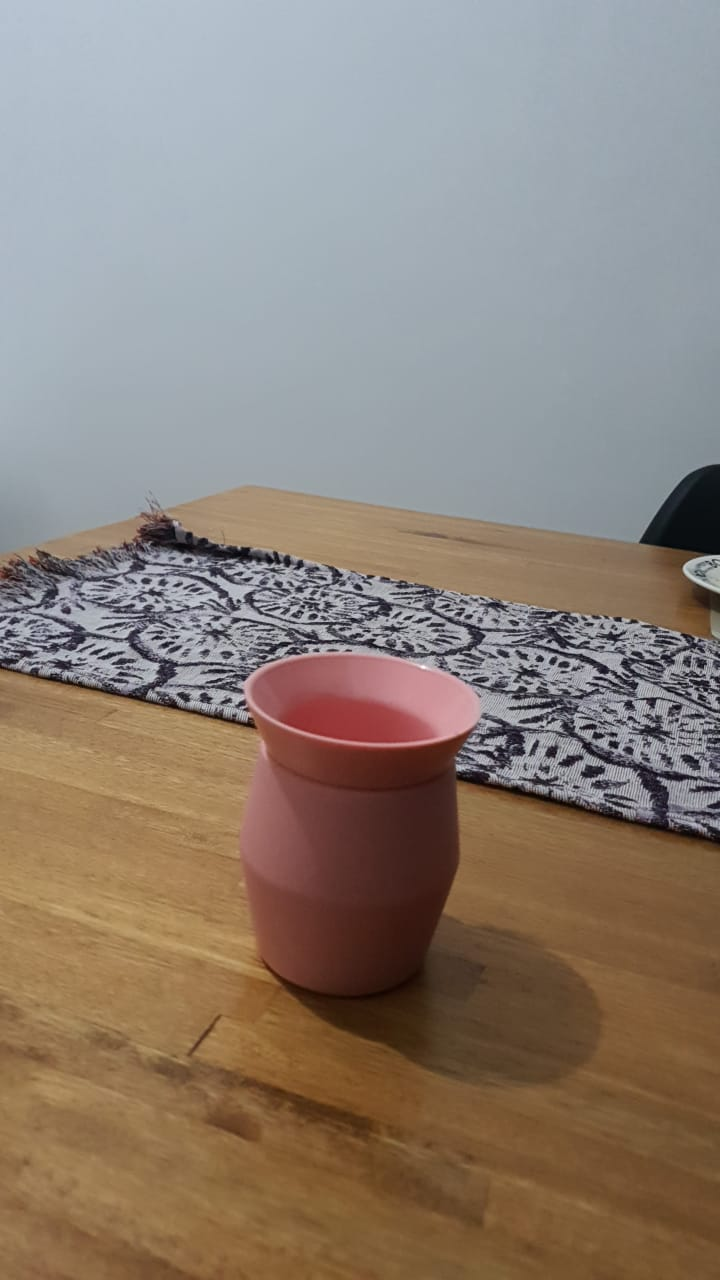mate: (223, 646, 519, 1023)
plastico: (226, 652, 497, 1011)
